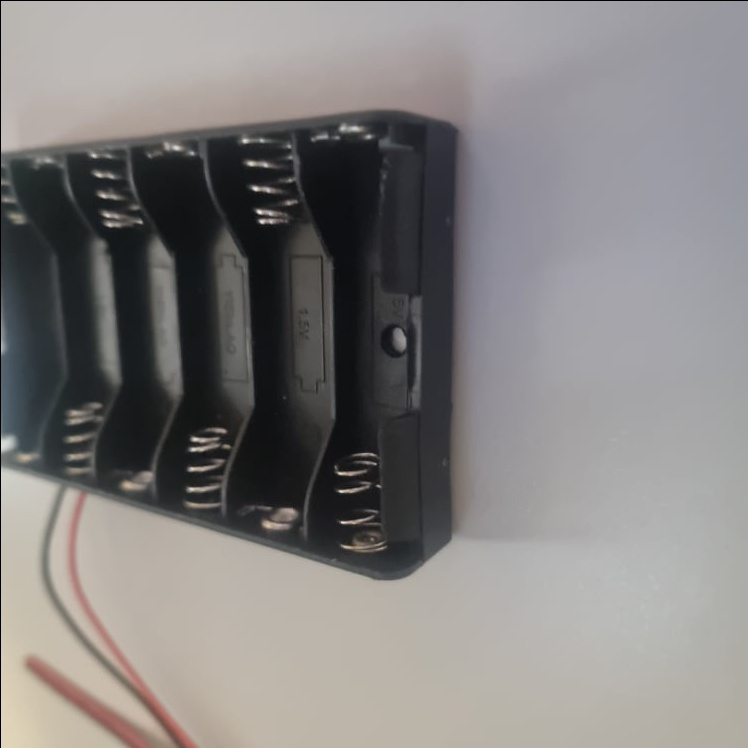BATTERY BOX: (0, 108, 456, 579)
